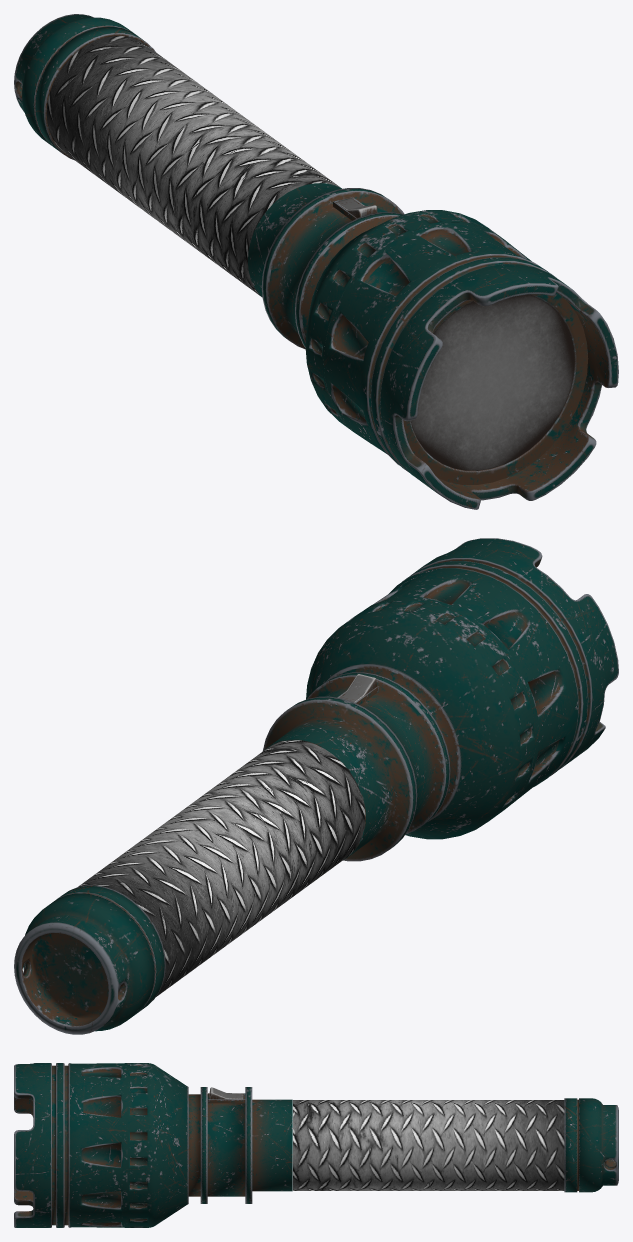
The model's file is Linterna.obj.
The picture shows the model from 3 angles, top to bottom: view 1: azimuth 30°, elevation 25°; view 2: azimuth 150°, elevation 25°; view 3: azimuth 270°, elevation 25°; orthographic projection. The views are drawn at different scales.
Parts seen in each view (by area): view 1: Object_4, Object_3, Object_2; view 2: Object_4, Object_3; view 3: Object_4, Object_3.
Part boxes in pixels (x1,y1,x2,y2): Object_4: (14,14,618,509); Object_3: (46,36,340,296); Object_2: (410,294,574,470); Object_4: (14,538,618,1034); Object_3: (78,740,365,996); Object_4: (14,1063,618,1227); Object_3: (293,1100,564,1190).
Size of the model in its own units: 2 by 2 by 7.34.
